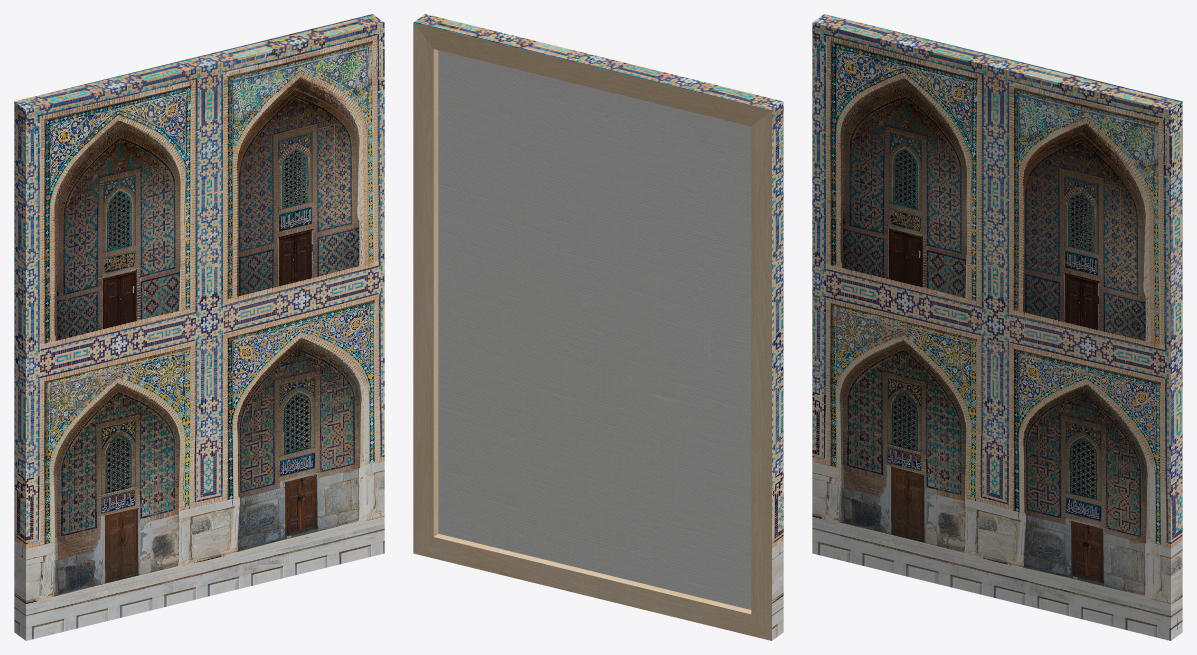
Rendered from quadro-textura.glb.
3 views of the same model, side by side, from view 1: azimuth 30°, elevation 25°; view 2: azimuth 150°, elevation 25°; view 3: azimuth 330°, elevation 25° (orthographic).
Parts seen in each view (by area): view 1: Tela; view 2: Tela; view 3: Tela.
Part boxes in pixels (left/top/right/bottom): Tela: left=14, top=14, right=384, bottom=640; Tela: left=413, top=14, right=783, bottom=640; Tela: left=812, top=14, right=1182, bottom=640.
Size of the model in its own units: 0.2976 by 0.4209 by 0.017.
Materials: 4 (3 with a texture image).
